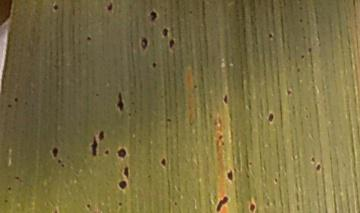tarspot: (213, 195, 230, 212), (115, 87, 125, 113), (146, 8, 160, 24), (225, 165, 235, 186), (114, 146, 130, 159), (138, 34, 150, 51), (265, 108, 276, 126), (47, 144, 61, 158), (115, 179, 129, 192), (165, 36, 177, 51), (90, 138, 99, 157), (121, 164, 132, 178), (104, 1, 115, 14), (160, 25, 170, 38), (248, 200, 258, 213), (159, 155, 168, 169), (97, 129, 106, 142), (84, 33, 93, 45), (314, 161, 322, 173), (222, 92, 229, 105), (51, 3, 61, 12), (150, 60, 159, 70), (103, 148, 111, 158)
